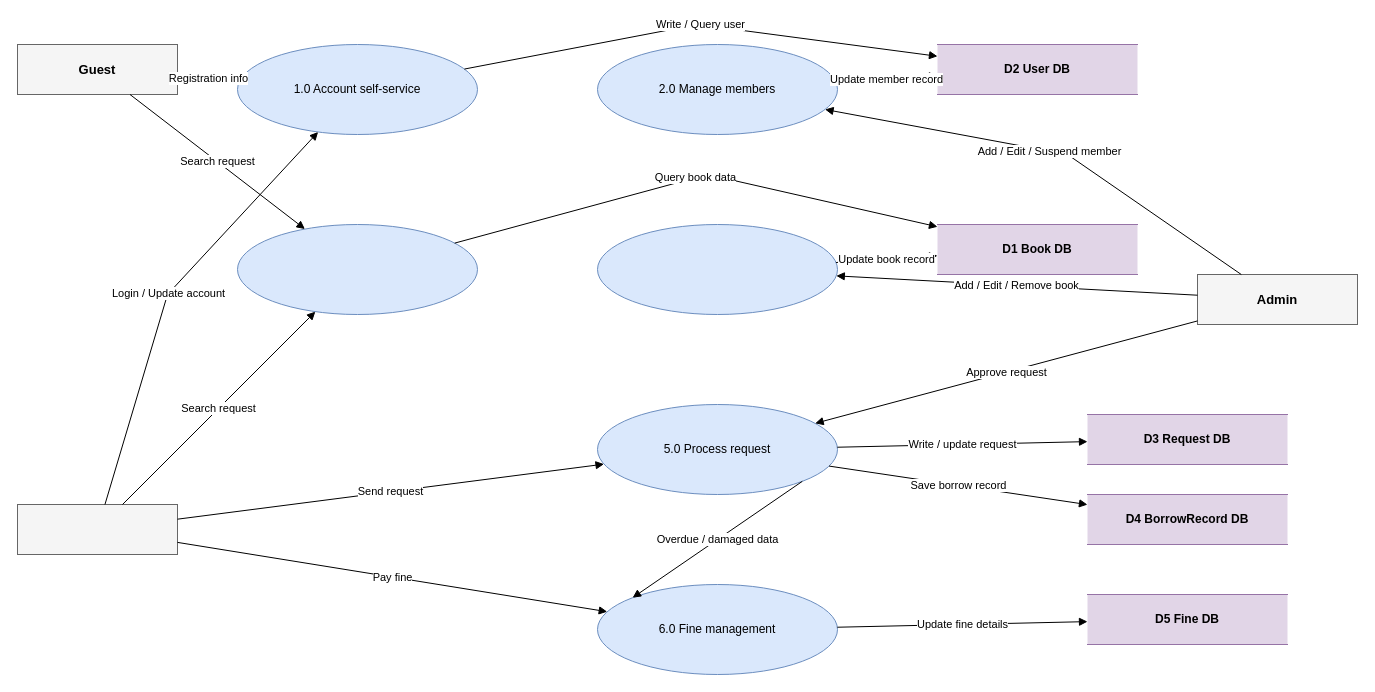
This 1375x692 diagram has some shape labels left out. The centre of each missing label's shape, as x and y in pixels:
"3.0 Search catalog" belongs at (x=357, y=269).
"4.0 Manage catalog" belongs at (x=717, y=269).
"Member" belongs at (x=97, y=529).
